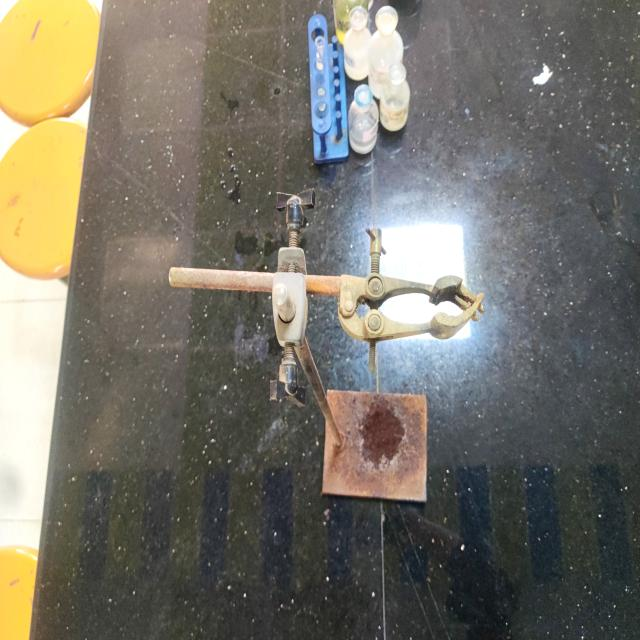Burette_Stands: (150, 187, 492, 518)
